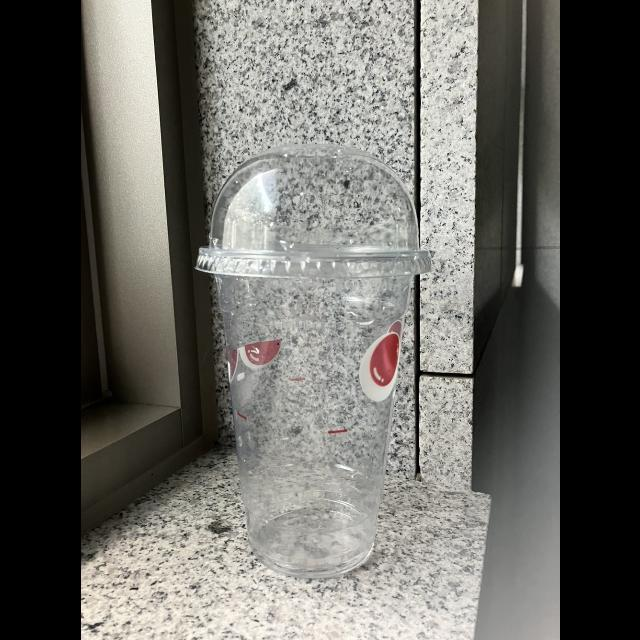plastic_cup: (176, 139, 450, 576)
plastic_cup_lid: (188, 150, 452, 280)
